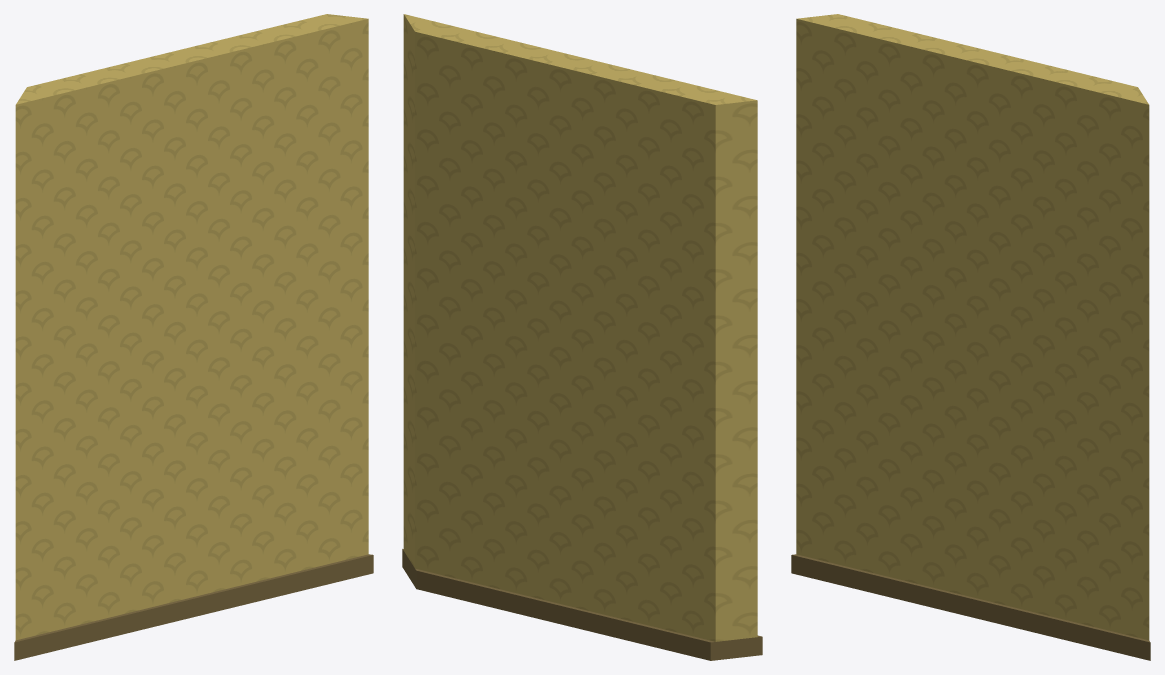
File: BackRoomsWall01Corner03.FBX
3 renders of one model, left to right at view 1: azimuth 30°, elevation 25°; view 2: azimuth 150°, elevation 25°; view 3: azimuth 330°, elevation 25°, orthographic.
Parts seen in each view (by area): view 1: BackRoomsWall01Corner03; view 2: BackRoomsWall01Corner03; view 3: BackRoomsWall01Corner03.
Part boxes in pixels (x1=…): BackRoomsWall01Corner03: x1=14, y1=14, x2=373, y2=660; BackRoomsWall01Corner03: x1=402, y1=14, x2=762, y2=660; BackRoomsWall01Corner03: x1=791, y1=14, x2=1150, y2=660.
Bounding box in the file's own units: 204 × 18.54 × 300.
